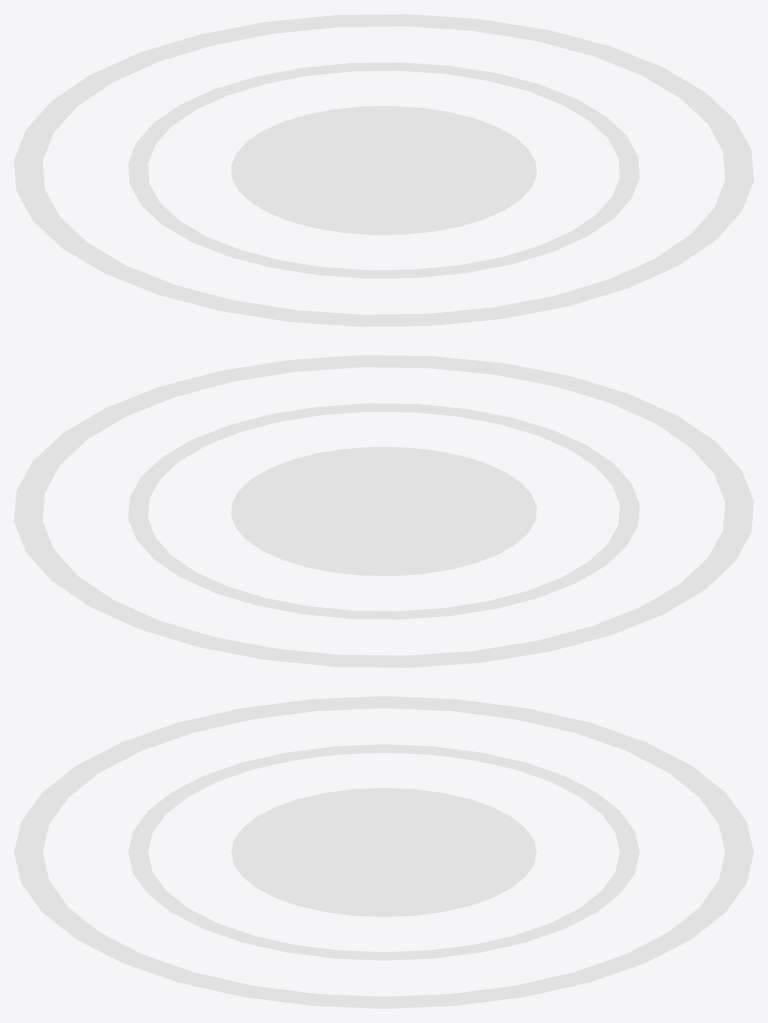
The model's file is Warning Markerfbx.fbx.
The picture shows the model from 3 angles, top to bottom: view 1: azimuth 30°, elevation 25°; view 2: azimuth 150°, elevation 25°; view 3: azimuth 270°, elevation 25°; orthographic projection.
Visible parts, largest first — view 1: Warning Marker; view 2: Warning Marker; view 3: Warning Marker.
Part boxes in pixels (box(x1,y1,x2,y2)): Warning Marker: box(14, 14, 753, 326); Warning Marker: box(14, 355, 753, 667); Warning Marker: box(14, 696, 753, 1008).
Bounding box in the file's own units: 200 × 7.01e-05 × 200.
